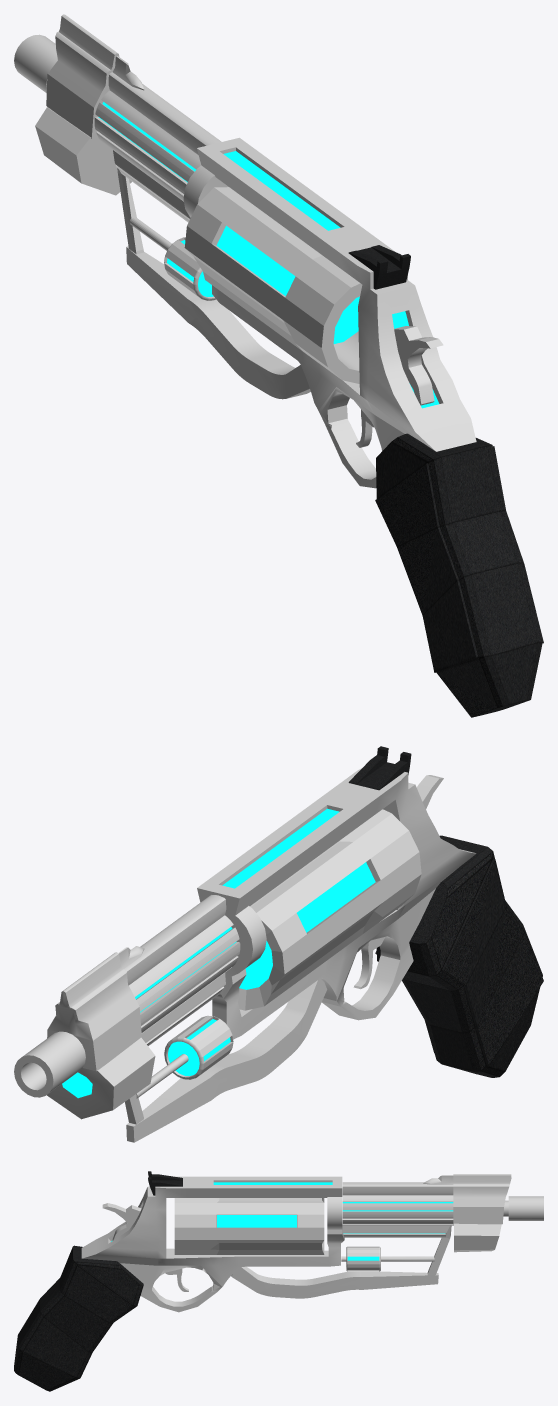
File: Revolver.fbx
3 renders of one model, top to bottom at view 1: azimuth 30°, elevation 25°; view 2: azimuth 150°, elevation 25°; view 3: azimuth 270°, elevation 25°, orthographic. The views are drawn at different scales.
Parts seen in each view (by area): view 1: pCube2, pPipe2, pCylinder7, polySurface1, pCube1, pCylinder5, pCylinder4, pCube4, pCylinder6, pCube3; view 2: pPipe2, pCube2, pCylinder7, polySurface1, pCube1, pCylinder5, pCylinder4, pCylinder6, pCube3, pCube5, pCube4; view 3: pPipe2, pCube2, polySurface1, pCylinder7, pCube1, pCylinder4, pCylinder5, pCylinder6, pCube4, pCube3.
Boxes of the visible parts, bbox=[...] form: pCube2: bbox=[375, 433, 543, 717]; pPipe2: bbox=[183, 137, 476, 488]; pCylinder7: bbox=[184, 187, 362, 383]; polySurface1: bbox=[46, 14, 221, 254]; pCube1: bbox=[126, 246, 310, 399]; pCylinder5: bbox=[35, 107, 131, 195]; pCylinder4: bbox=[129, 217, 215, 300]; pCube4: bbox=[394, 326, 443, 405]; pCylinder6: bbox=[14, 34, 57, 92]; pCube3: bbox=[348, 245, 410, 289]; pPipe2: bbox=[197, 768, 476, 1039]; pCube2: bbox=[375, 835, 543, 1077]; pCylinder7: bbox=[238, 809, 421, 1010]; polySurface1: bbox=[47, 895, 240, 1124]; pCube1: bbox=[126, 978, 327, 1142]; pCylinder5: bbox=[47, 1037, 155, 1119]; pCylinder4: bbox=[136, 1015, 233, 1098]; pCylinder6: bbox=[14, 1031, 85, 1097]; pCube3: bbox=[348, 746, 411, 790]; pCube5: bbox=[353, 937, 385, 989]; pCube4: bbox=[416, 775, 443, 808]; pPipe2: bbox=[81, 1176, 344, 1312]; pCube2: bbox=[14, 1245, 143, 1391]; polySurface1: bbox=[342, 1174, 511, 1275]; pCylinder7: bbox=[174, 1198, 324, 1254]; pCube1: bbox=[231, 1266, 438, 1298]; pCylinder4: bbox=[341, 1246, 434, 1271]; pCylinder5: bbox=[454, 1223, 501, 1252]; pCylinder6: bbox=[503, 1196, 543, 1220]; pCube4: bbox=[102, 1203, 141, 1240]; pCube3: bbox=[148, 1171, 182, 1195].
Size of the model in its own units: 4.42 by 16.64 by 37.2.
